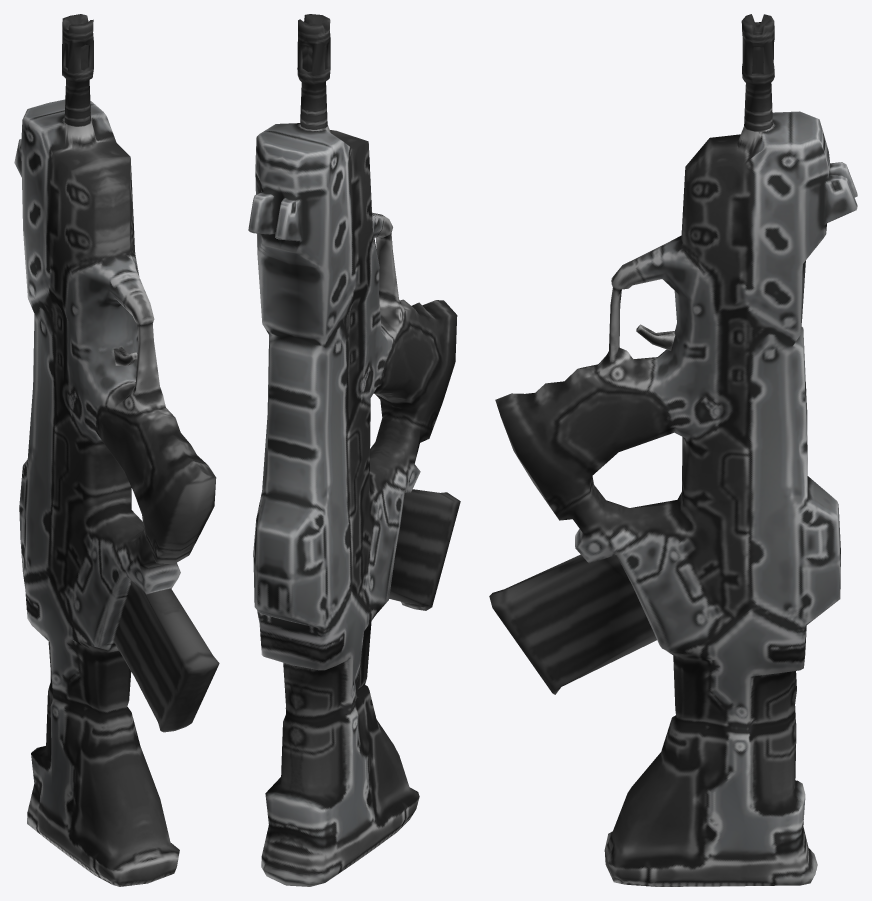
The model's file is gunLOD1.FBX.
3 renders of one model, left to right at view 1: azimuth 30°, elevation 25°; view 2: azimuth 150°, elevation 25°; view 3: azimuth 270°, elevation 25°, orthographic. The views are drawn at different scales.
Parts seen in each view (by area): view 1: gun; view 2: gun; view 3: gun.
Boxes of the visible parts, x1,y1,x2,y2 form: gun: [14, 14, 219, 886]; gun: [248, 14, 460, 886]; gun: [489, 14, 857, 886].
Size of the model in its own units: 9.29 by 38.18 by 98.09.
